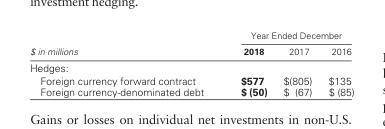table: (29, 29, 353, 97)
table column: (29, 29, 221, 97), (221, 29, 274, 97), (274, 29, 319, 97), (319, 29, 353, 97)
table column header: (29, 29, 353, 58)
table projected row header: (29, 58, 353, 73)
table row: (29, 42, 353, 58), (29, 58, 353, 73), (29, 29, 353, 42), (29, 73, 353, 85), (29, 85, 353, 97)
table spanning cell: (29, 29, 221, 58), (221, 29, 353, 42)
